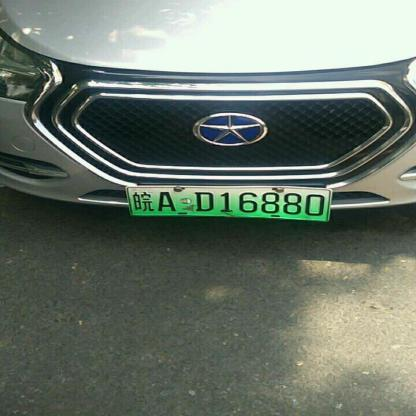lp: (125, 187, 332, 220)
